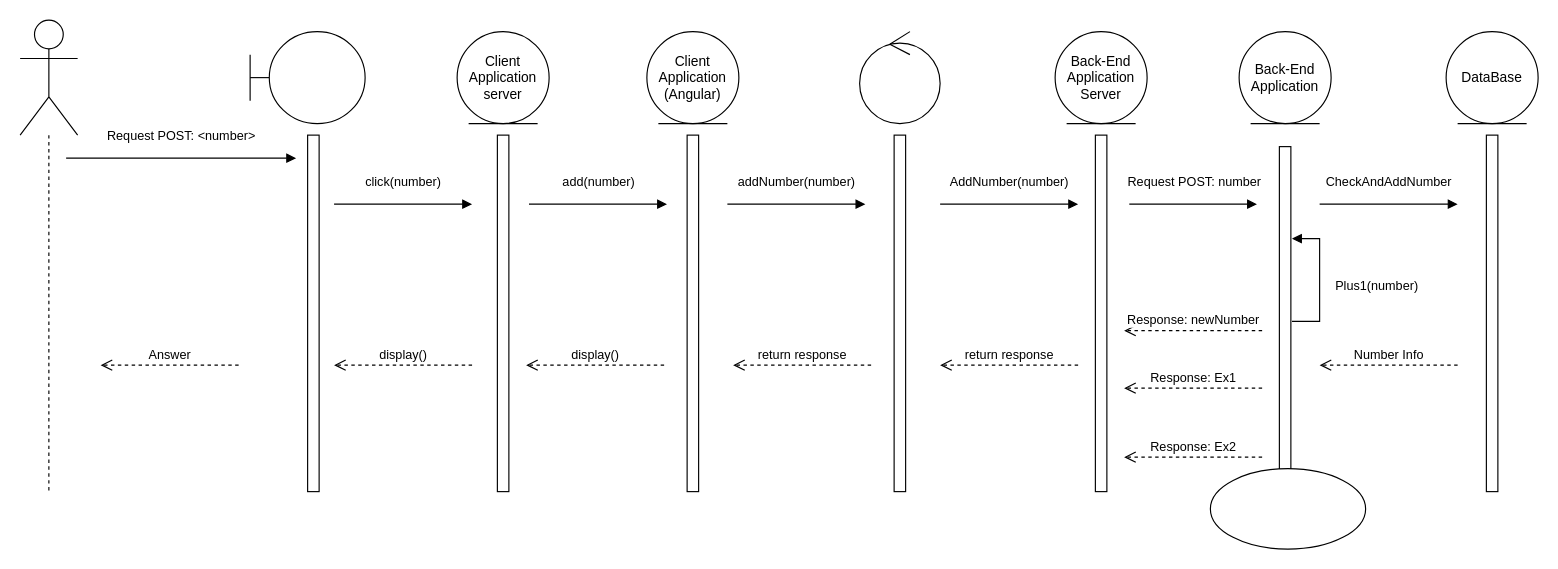
The diagram is 1558 pixels wide and 569 high, and some of its shapes have lost their labels. The shapes that lost their labels are listed below. From the top down, each one's centre as x and y in pixels, then its label:
At [307,77]: "Web Browser".
At [899,77]: "Web-Server".
At [1287,508]: "If number added: OK else Error".
